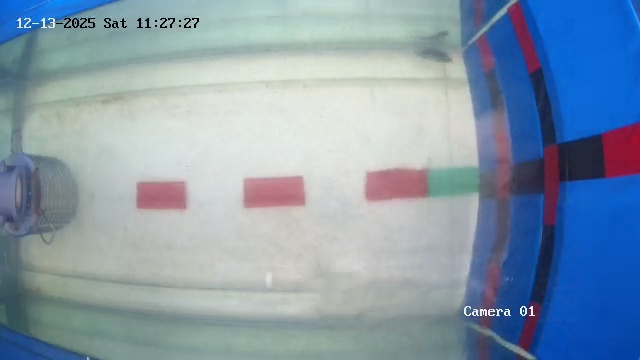fish: (300, 35, 335, 92)
